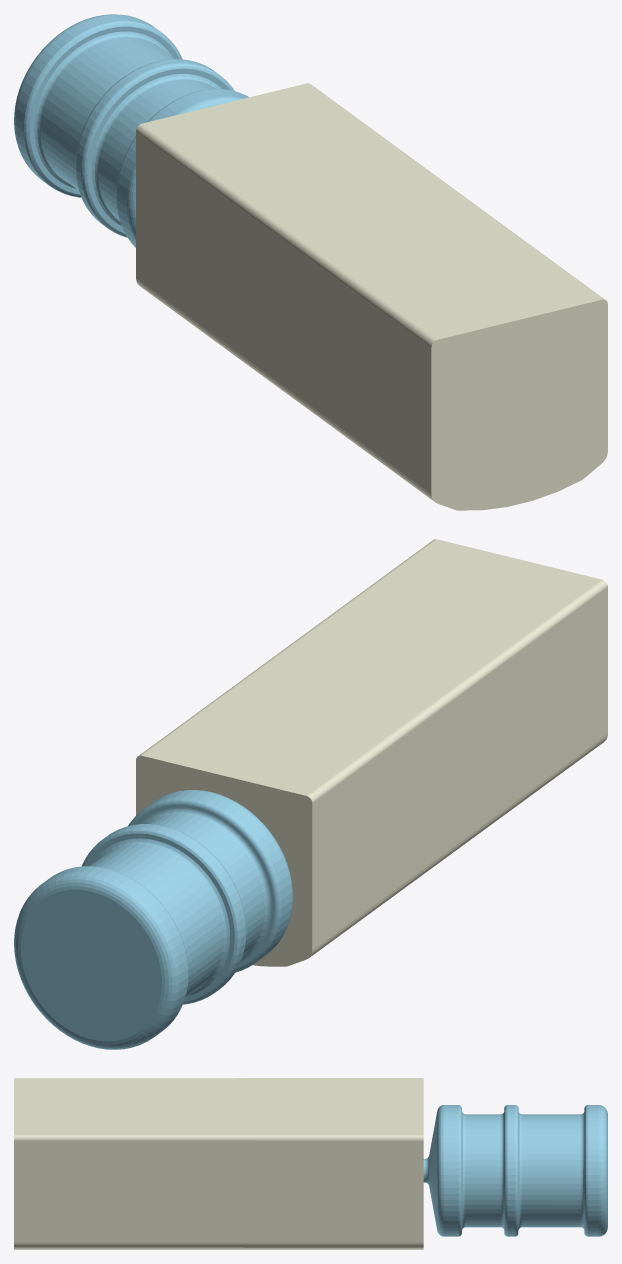
The model's file is water.dae.
The picture shows the model from 3 angles, top to bottom: view 1: azimuth 30°, elevation 25°; view 2: azimuth 150°, elevation 25°; view 3: azimuth 270°, elevation 25°; orthographic projection. The views are drawn at different scales.
Parts seen in each view (by area): view 1: ShapeIndexedFaceSet, ShapeIndexedFaceSet_001; view 2: ShapeIndexedFaceSet, ShapeIndexedFaceSet_001; view 3: ShapeIndexedFaceSet, ShapeIndexedFaceSet_001.
Boxes of the visible parts, x1,y1,x2,y2 form: ShapeIndexedFaceSet: (136,83,607,510); ShapeIndexedFaceSet_001: (14,14,248,247); ShapeIndexedFaceSet: (136,539,607,966); ShapeIndexedFaceSet_001: (14,790,292,1049); ShapeIndexedFaceSet: (14,1078,423,1249); ShapeIndexedFaceSet_001: (423,1105,607,1236).
Bounding box in the file's own units: 0.3 × 1.26 × 0.3.
